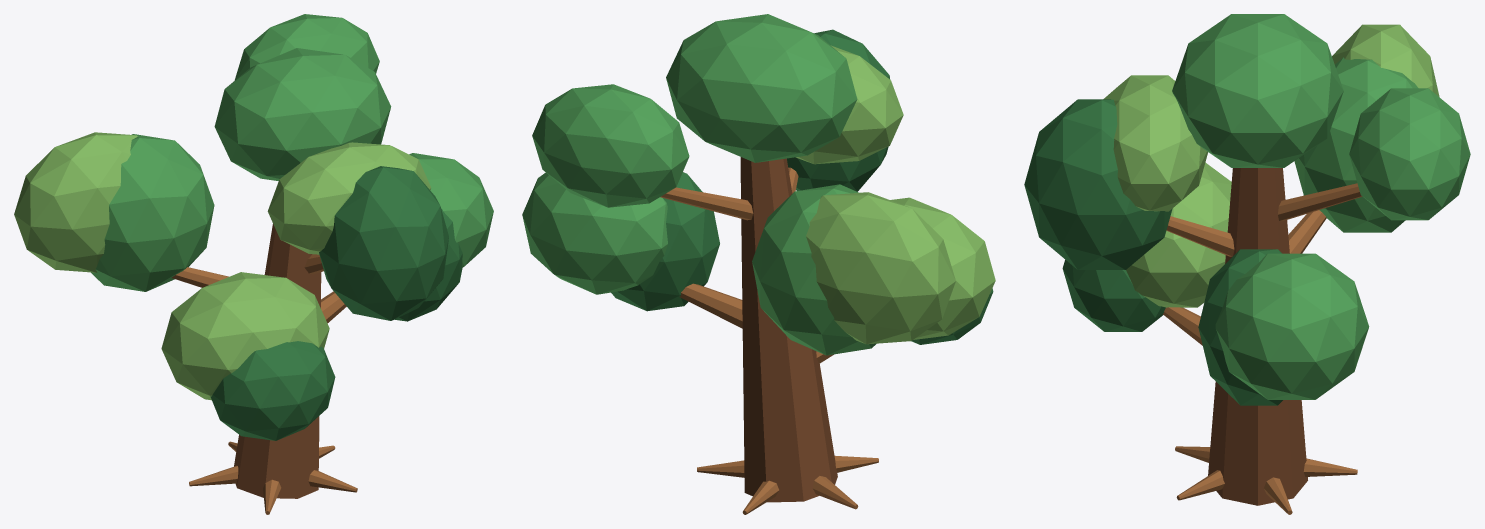
Rendered from tree_d.glb.
3 renders of one model, left to right at view 1: azimuth 30°, elevation 25°; view 2: azimuth 150°, elevation 25°; view 3: azimuth 270°, elevation 25°, orthographic. The views are drawn at different scales.
Parts seen in each view (by area): view 1: TREE_D; view 2: TREE_D; view 3: TREE_D.
Boxes of the visible parts, x1,y1,x2,y2 form: TREE_D: (14,14,493,514); TREE_D: (522,14,995,514); TREE_D: (1024,14,1470,514).
Size of the model in its own units: 5.23 by 5.03 by 4.26.
